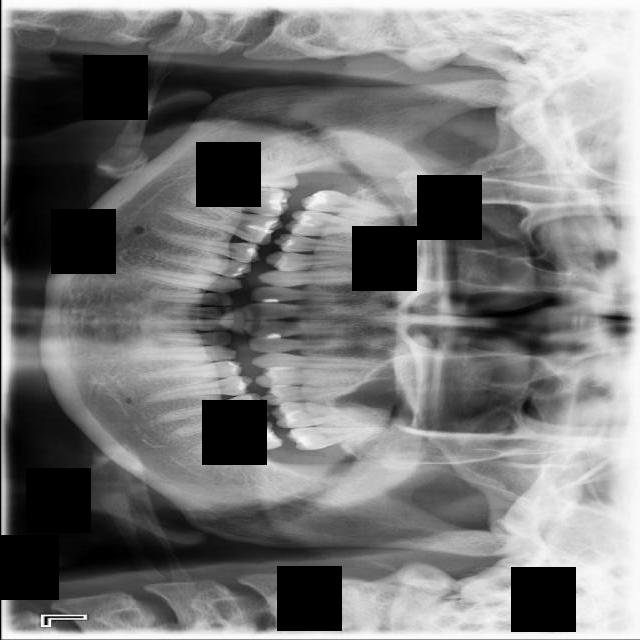52: (243, 182, 291, 220), (239, 417, 286, 455), (236, 214, 283, 246), (284, 208, 332, 238), (268, 400, 316, 429), (269, 229, 313, 257), (300, 188, 346, 214), (243, 319, 293, 340), (285, 426, 328, 450), (226, 240, 262, 265), (249, 286, 293, 303), (215, 258, 252, 278), (223, 375, 254, 397), (211, 360, 243, 379)
73: (42, 594, 58, 602)
BioHorizons Implant: (283, 426, 388, 450)
Blue Sky Bio Implant: (184, 417, 284, 463)
Caries: (298, 187, 405, 220)
Implant: (187, 183, 292, 218)
Keystone Dental Implant: (230, 146, 296, 193)
